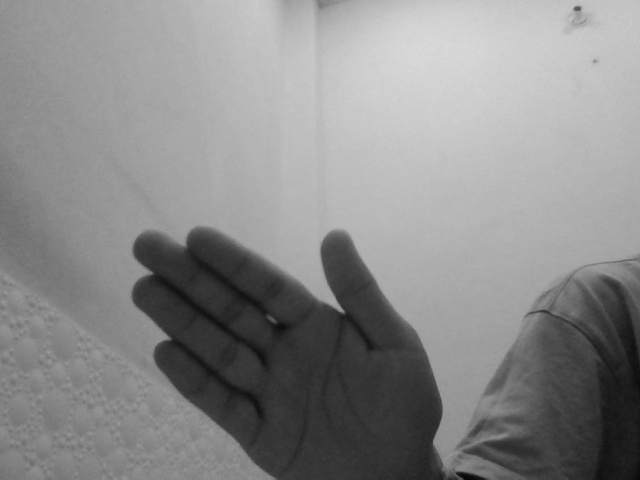Hello: (125, 225, 451, 474)
